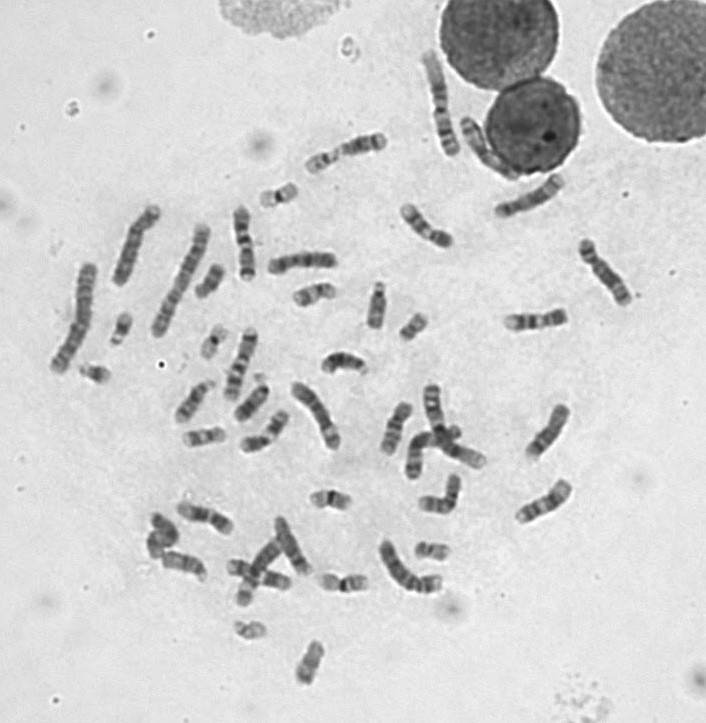chromosomes: (140, 218, 215, 343), (42, 260, 102, 381), (421, 374, 491, 473), (415, 47, 460, 162), (458, 110, 523, 187), (107, 201, 162, 291), (483, 172, 573, 227), (575, 237, 637, 316), (286, 376, 348, 452), (378, 536, 448, 602), (228, 536, 286, 610), (397, 423, 464, 487), (518, 402, 571, 470), (510, 474, 579, 524), (222, 323, 264, 405), (236, 407, 295, 463), (225, 200, 262, 286), (271, 509, 316, 579), (395, 202, 456, 252), (373, 397, 417, 461), (174, 495, 237, 539), (169, 375, 223, 425), (231, 372, 275, 429), (415, 468, 462, 518), (312, 343, 371, 382), (291, 634, 328, 696), (223, 559, 294, 591), (262, 249, 348, 275), (500, 304, 571, 335), (177, 262, 226, 304), (159, 549, 216, 585), (143, 509, 179, 565), (286, 279, 341, 312), (299, 487, 360, 516), (176, 427, 232, 457), (389, 311, 436, 346), (363, 278, 391, 334), (199, 321, 233, 366), (254, 181, 306, 210), (337, 130, 395, 156), (314, 572, 373, 594), (408, 541, 456, 568), (228, 616, 272, 645), (108, 311, 136, 349), (303, 148, 342, 175), (76, 362, 115, 388)
